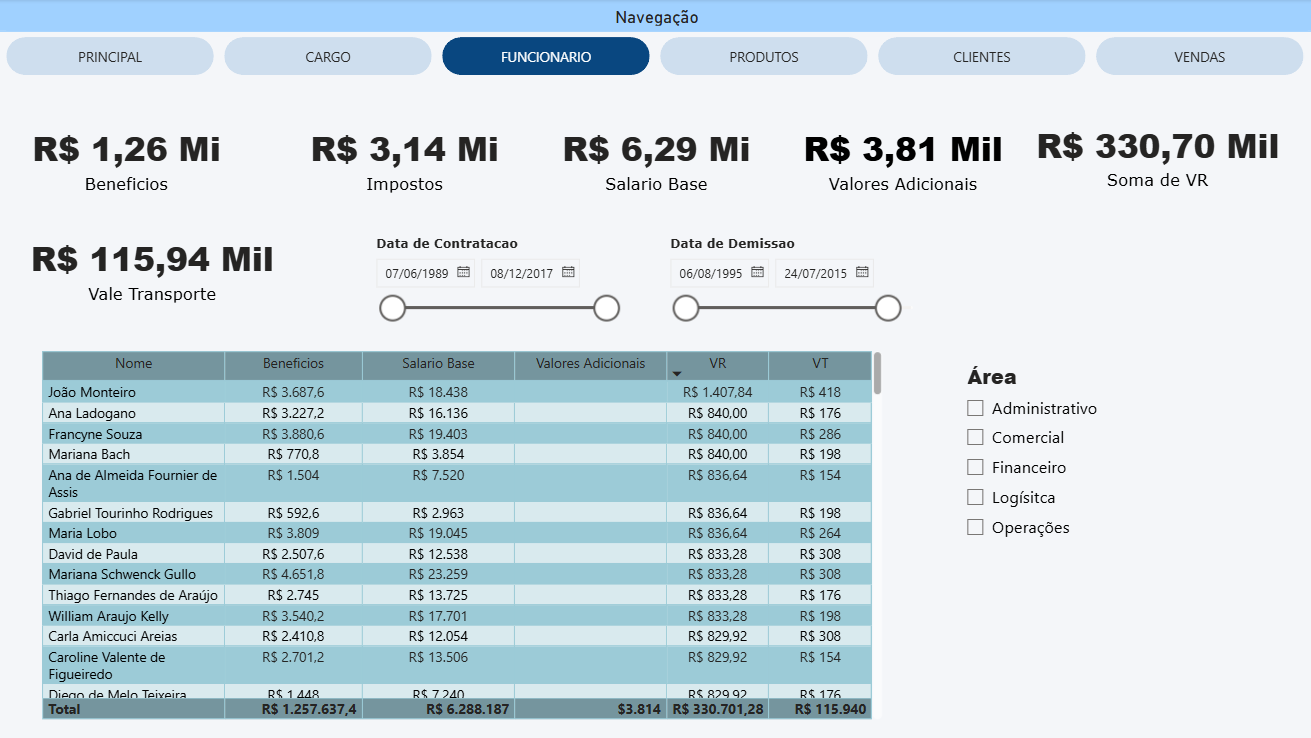

Layout of this report page (visuals, bound fields, positions):
{"tool":"powerbi","page":{"name":"FUNCIONARIO","canvas":[1280,720],"ordinal":2},"visuals":[{"type":"pageNavigator","title":"Navegação","box":[0,0,1280,80.7],"z":0},{"type":"cardVisual","fields":{"Data":["Sum(Plan1.Beneficios)"]},"box":[0,85.6,249,140.1],"z":1000},{"type":"cardVisual","fields":{"Data":["Sum(Plan1.Impostos)"]},"box":[249,95.3,291.8,119.6],"z":2000},{"type":"cardVisual","fields":{"Data":["Sum(Plan1.Salario Base)"]},"box":[500.9,95.3,277.2,119.6],"z":3000},{"type":"cardVisual","fields":{"Data":["Sum(Plan1.Valores Adicionais)"]},"box":[751.9,95.3,255.8,119.6],"z":4000},{"type":"cardVisual","fields":{"Data":["Sum(Plan1.VR)"]},"box":[974.6,95.3,305.4,114.8],"z":5000},{"type":"cardVisual","fields":{"Data":["Sum(Plan1.VT)"]},"box":[0,202.3,298.6,119.6],"z":6000},{"type":"slicer","fields":{"Values":["Plan1.Data de Contratacao"]},"box":[354,225.7,257.8,111.9],"z":7000},{"type":"slicer","fields":{"Values":["Plan1.Data de Demissao"]},"box":[640,225.7,270.4,111.9],"z":8000},{"type":"slicer","fields":{"Values":["Base Cargos.Área"]},"box":[928.9,348.2,221.8,200.4],"z":9000},{"type":"tableEx","fields":{"Values":["Plan1.Nome Completo","Sum(Plan1.Beneficios)","Sum(Plan1.Salario Base)","Sum(Plan1.Valores Adicionais)","Sum(Plan1.VR)","Sum(Plan1.VT)"]},"box":[36,337.5,827.7,367.7],"z":10000}]}

Visuals, with their boxes in screenshot pixels (x1, y1, x2, y2), scaled from the page's 1280x720 canvas onto the 1311x738 screenshot:
"Navegação" pageNavigator: 0 0 1310 83
cardVisual - Sum(Plan1.Beneficios): 0 88 255 231
cardVisual - Sum(Plan1.Impostos): 255 98 554 220
cardVisual - Sum(Plan1.Salario Base): 513 98 797 220
cardVisual - Sum(Plan1.Valores Adicionais): 770 98 1032 220
cardVisual - Sum(Plan1.VR): 998 98 1310 215
cardVisual - Sum(Plan1.VT): 0 207 306 330
slicer - Plan1.Data de Contratacao: 363 231 627 346
slicer - Plan1.Data de Demissao: 656 231 932 346
slicer - Base Cargos.Área: 951 357 1179 562
tableEx - Plan1.Nome Completo x Sum(Plan1.Beneficios): 37 346 885 723
